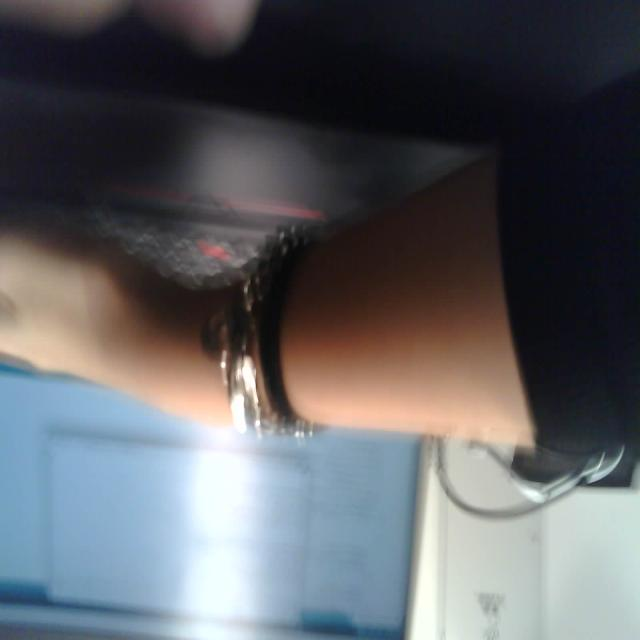keyboard-with-hands: (0, 74, 494, 366)
